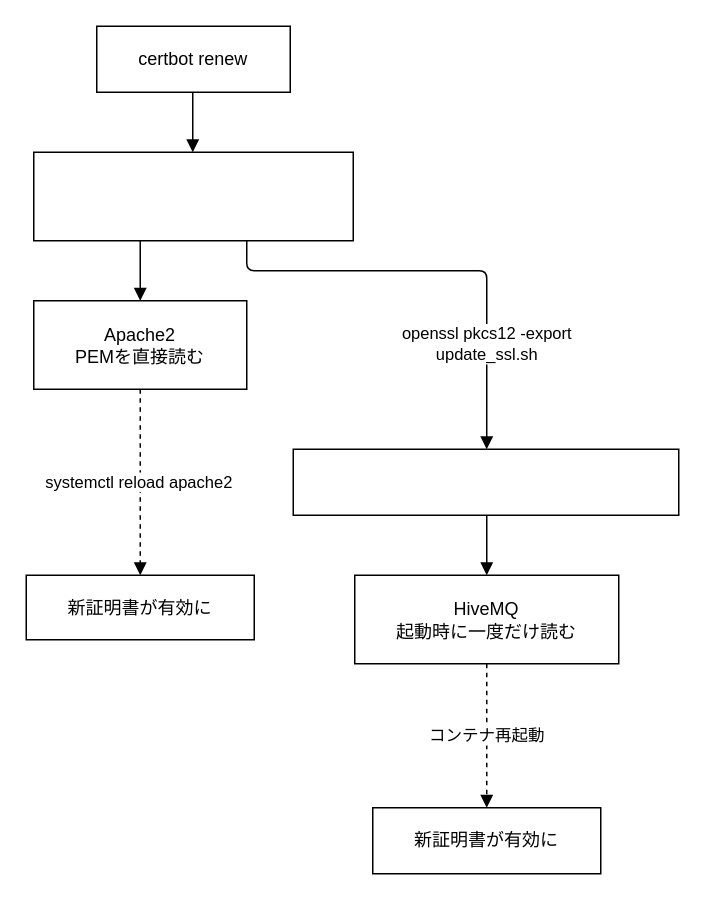
This 705x900 diagram has some shape labels left out. Here are the shapes that lost their labels. From the top down, the centre of each, then its label:
the point at 192,196: /etc/letsencrypt/live/DOMAIN/ fullchain.pem + privkey.pem
the point at 485,481: /srv/msd/secrets/hivemq/keystore.p12
